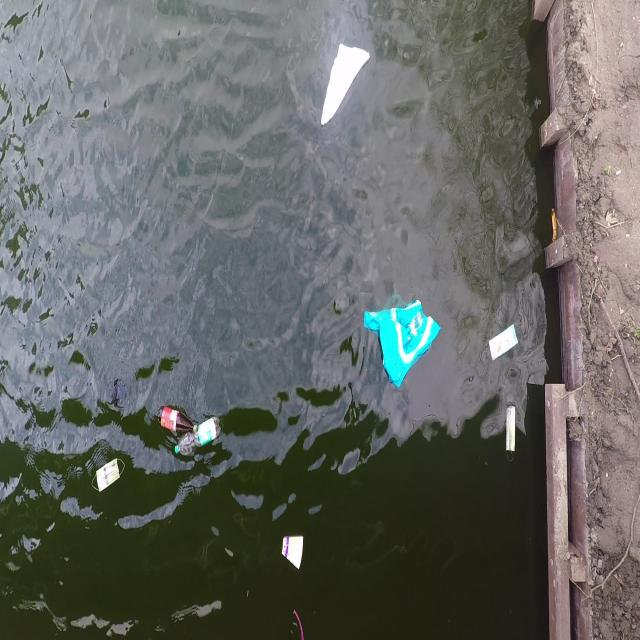Autre plastique: (312, 36, 374, 137)
Bouteille plastique: (161, 411, 227, 462), (152, 399, 200, 440)
Non plastique: (86, 451, 126, 507), (280, 530, 308, 574), (501, 395, 517, 466)
Sac plastique: (359, 289, 442, 396)
